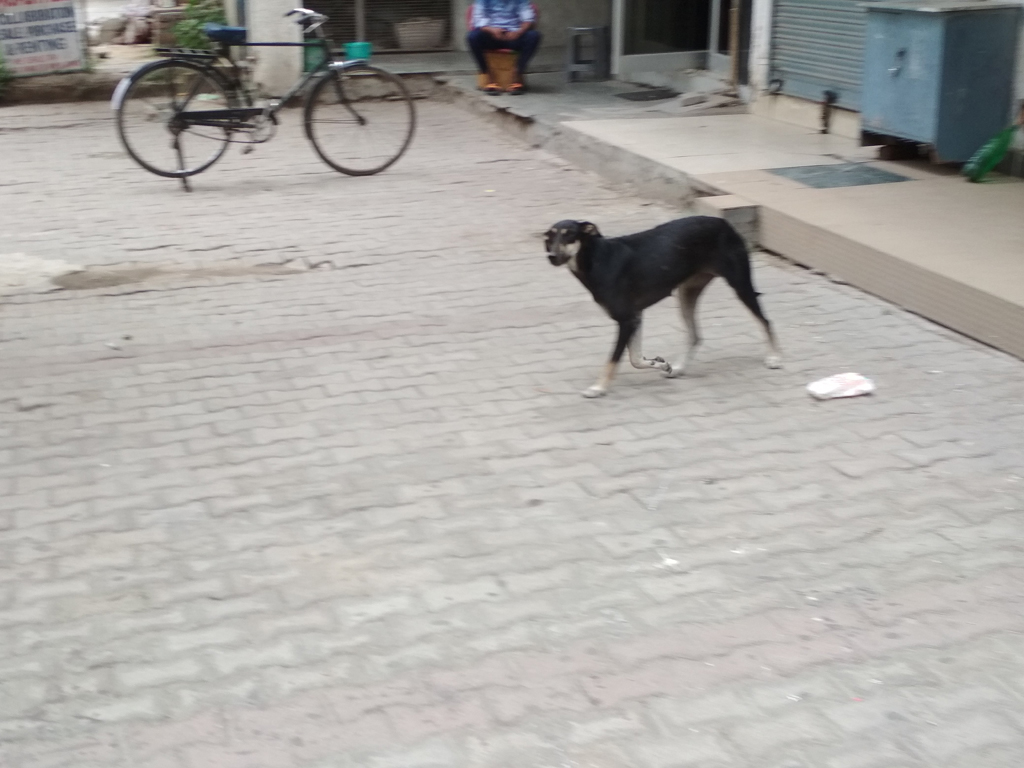dog: (544, 215, 783, 401)
